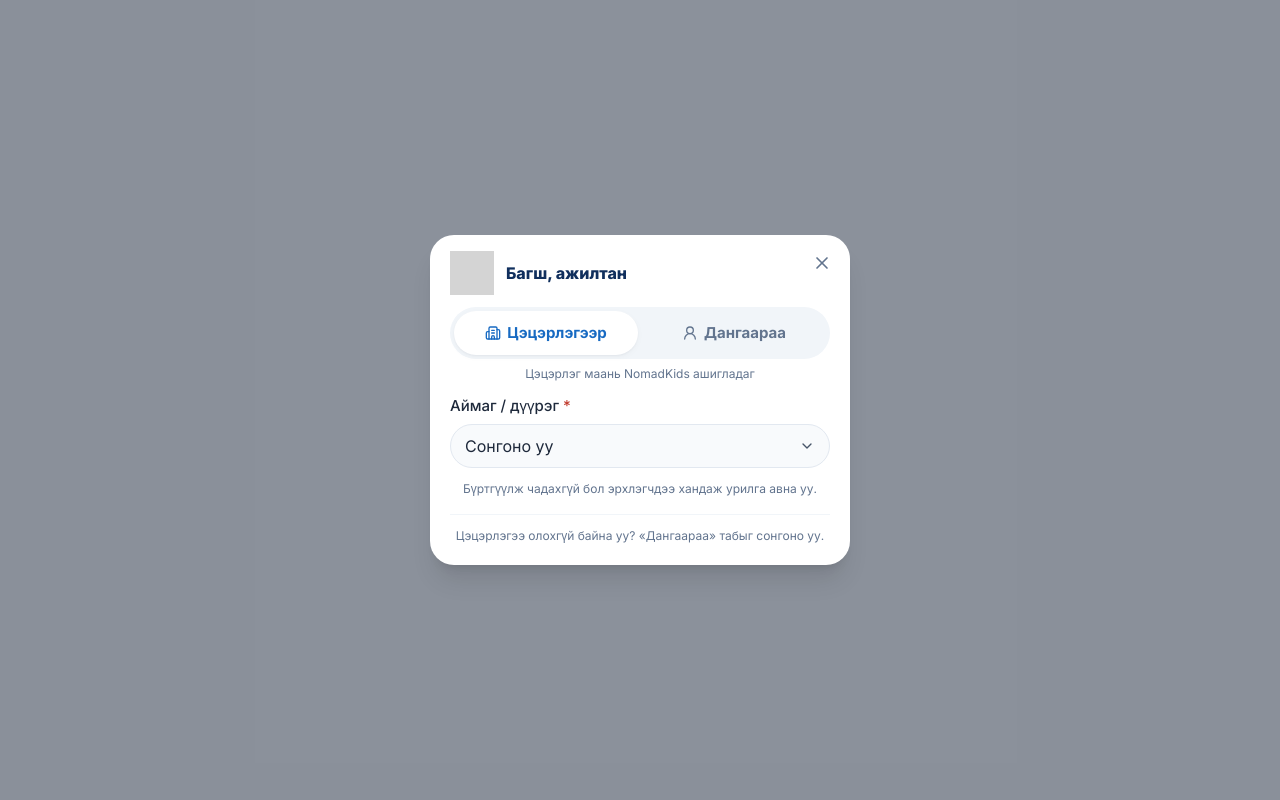
«Цэцэрлэгээр» — staff of a kindergarten on NomadKids › shows the server's refusal and always points at the director
Click the dropdown named "Аймаг / дүүрэг".
click(509, 446)  # box [450,424,830,468]
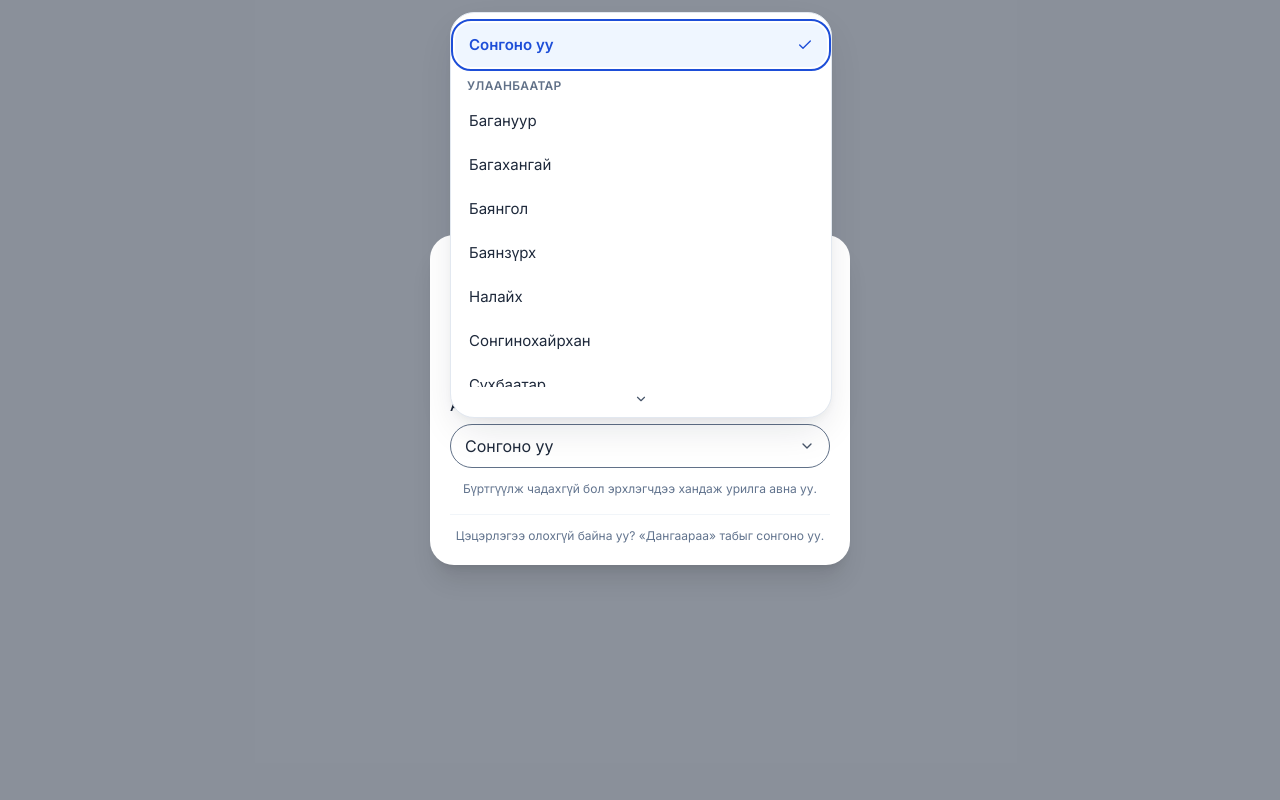
Click the option "Баянзүрх".
click(503, 252)  # box [469,243,536,262]
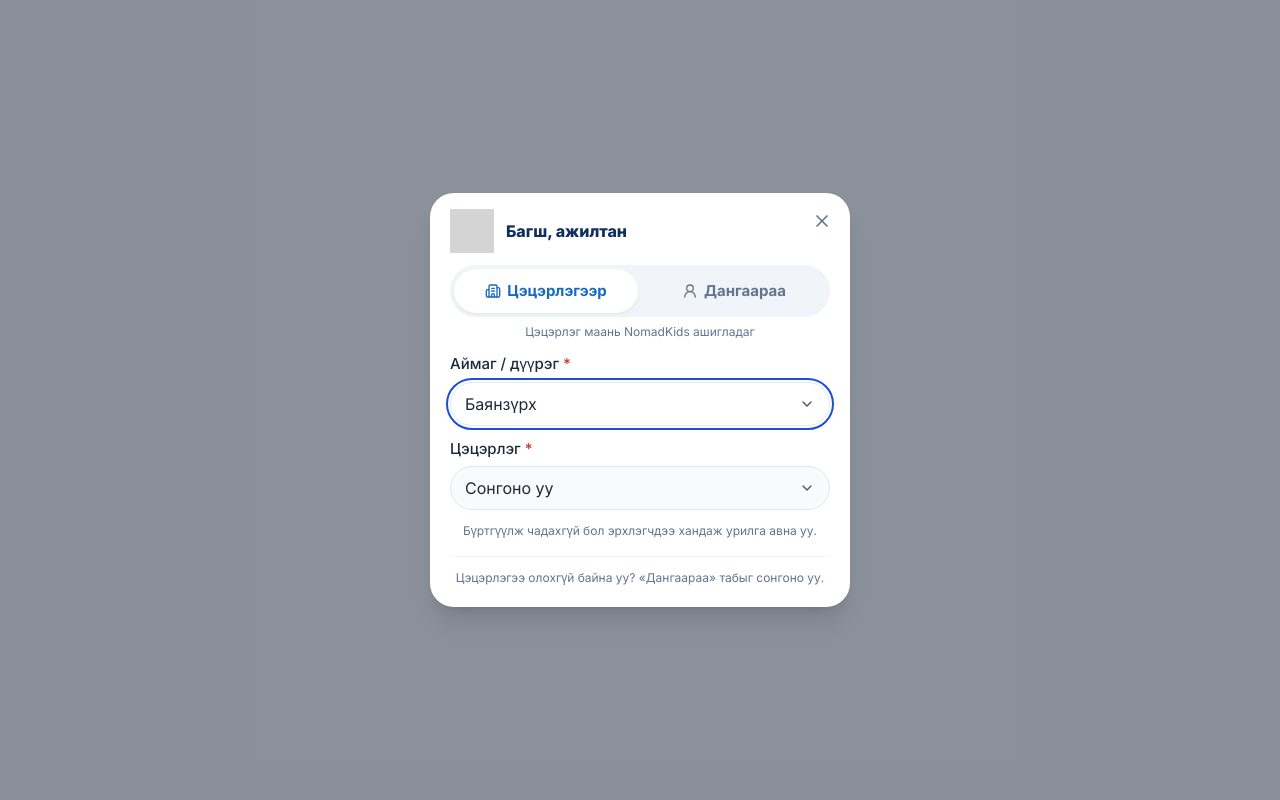
Click the dropdown named "Цэцэрлэг".
click(509, 488)  # box [450,466,830,510]
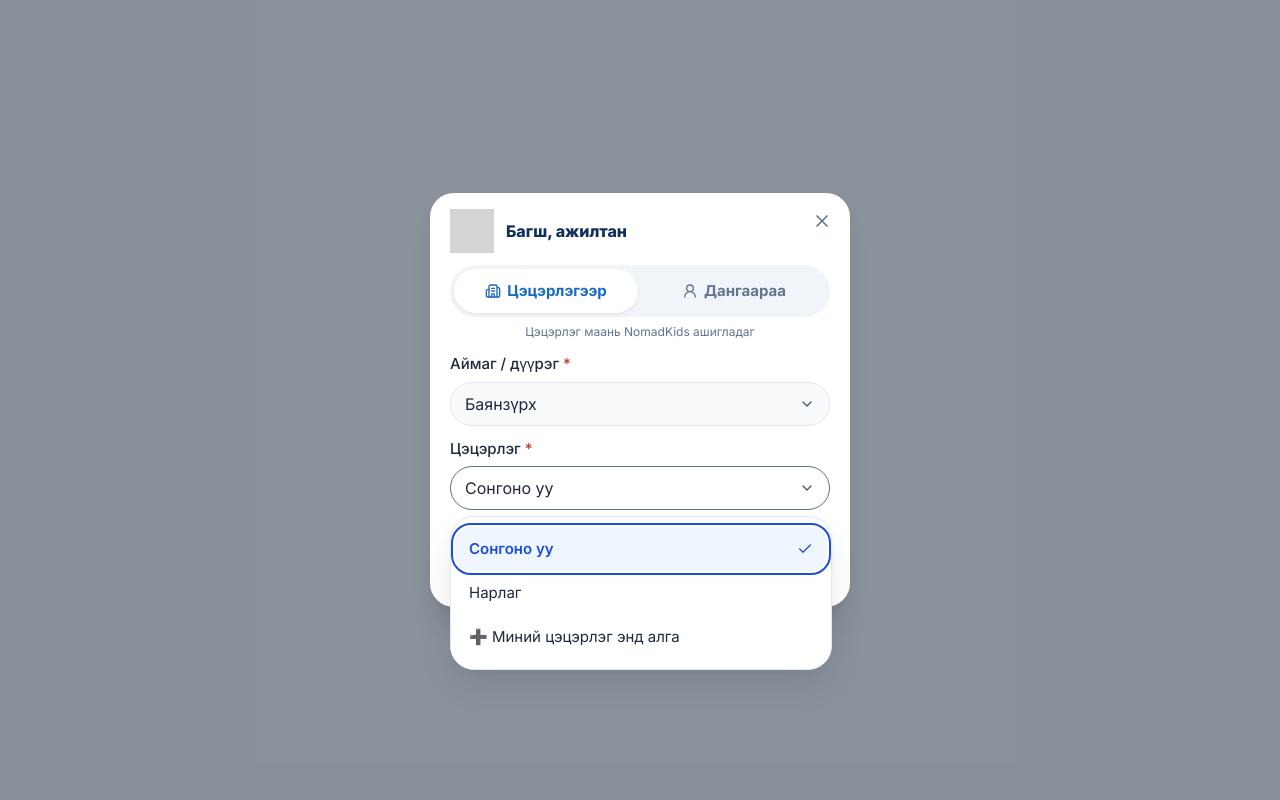
Click the option "Нарлаг".
click(495, 592)  # box [469,583,521,602]
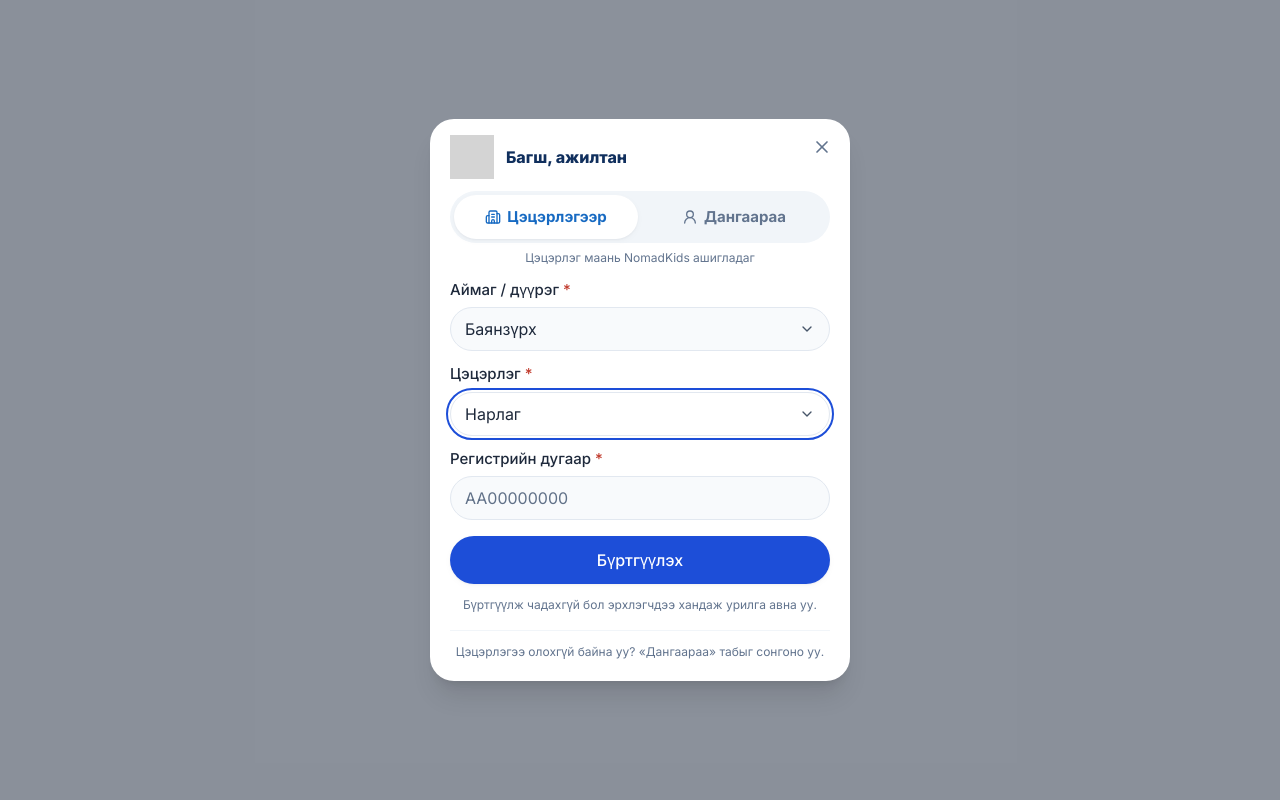
Type "УБ90010101" into the field labelled "Регистрийн дугаар *".
click(640, 498); type("УБ90010101")  # box [450,476,830,520]
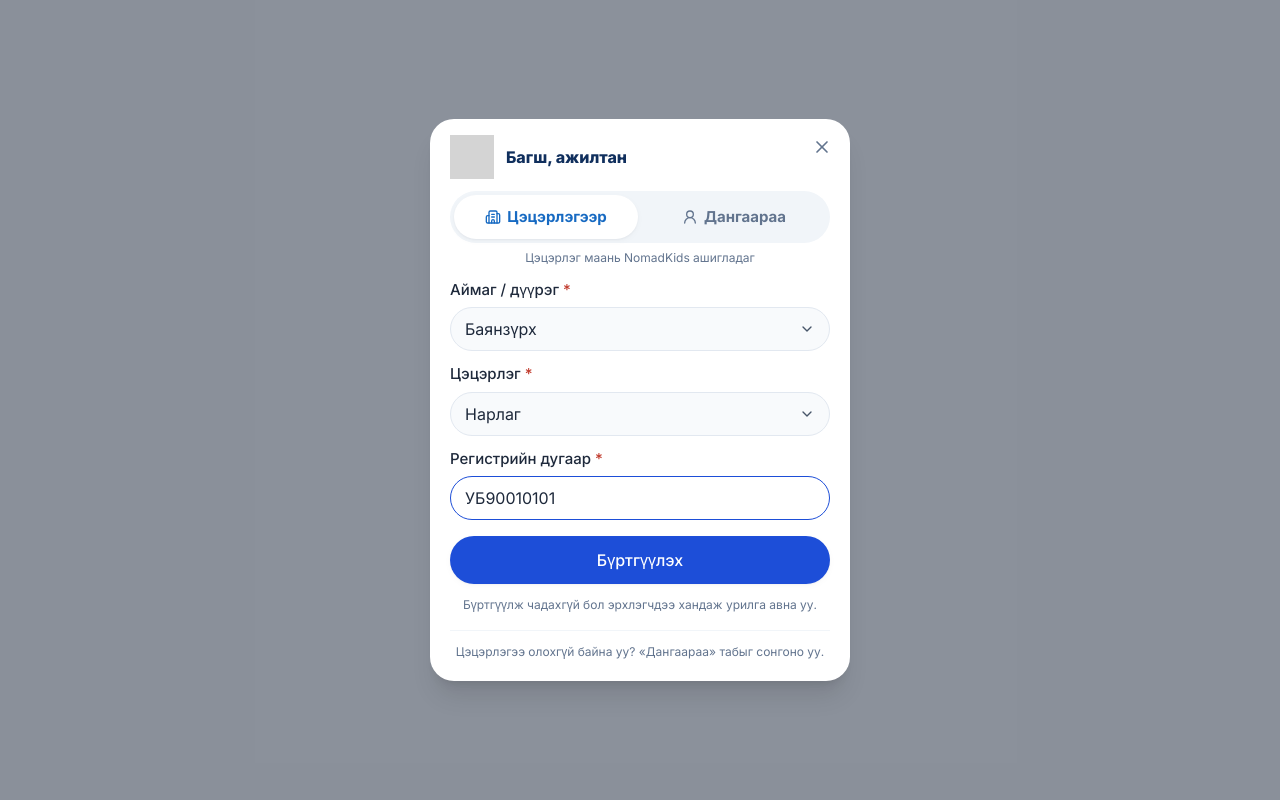
Click the button "Бүртгүүлэх".
click(640, 560)  # box [450,536,830,584]
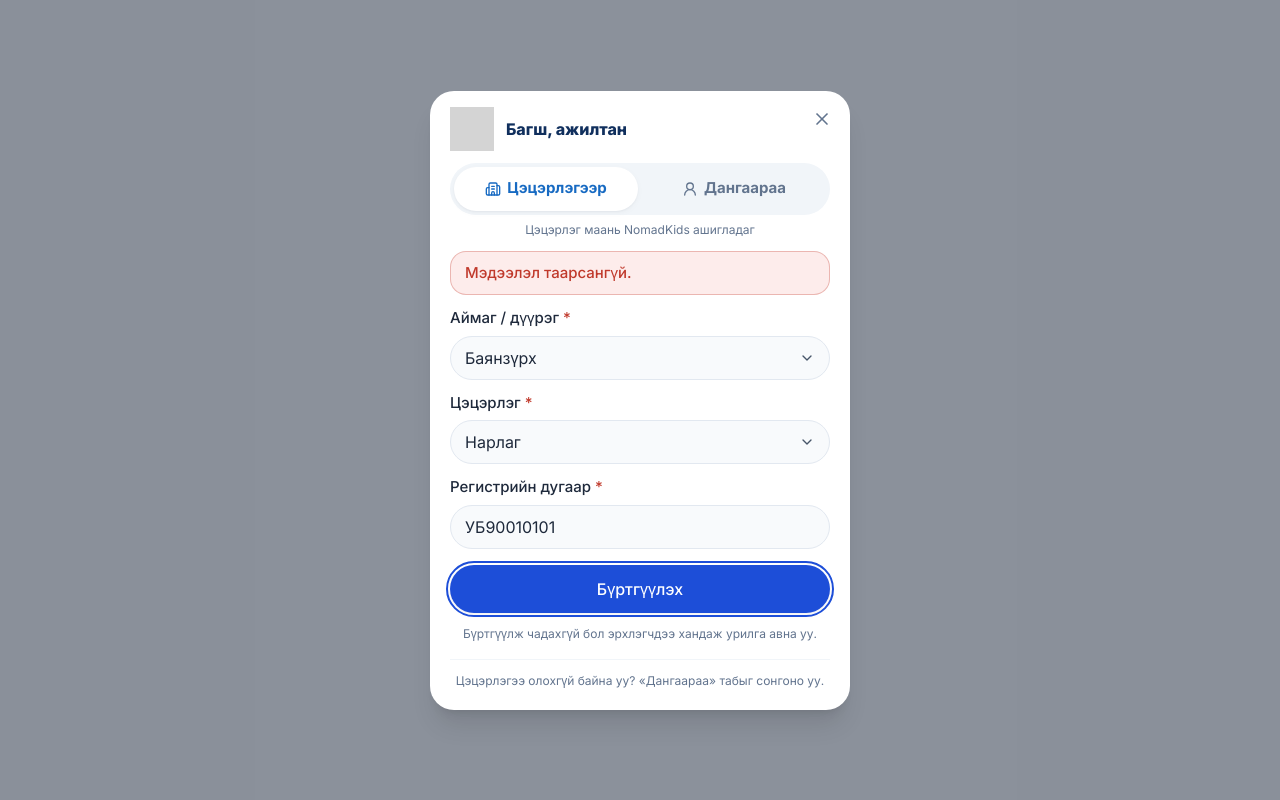
Expected: the text "Бүртгүүлж чадахгүй бол эрхлэгчдээ хандаж урилга авна уу." is shown, [450,624,830,642]
Now the text "Мэдээлэл таарсангүй." is shown, box [450,250,830,295]
